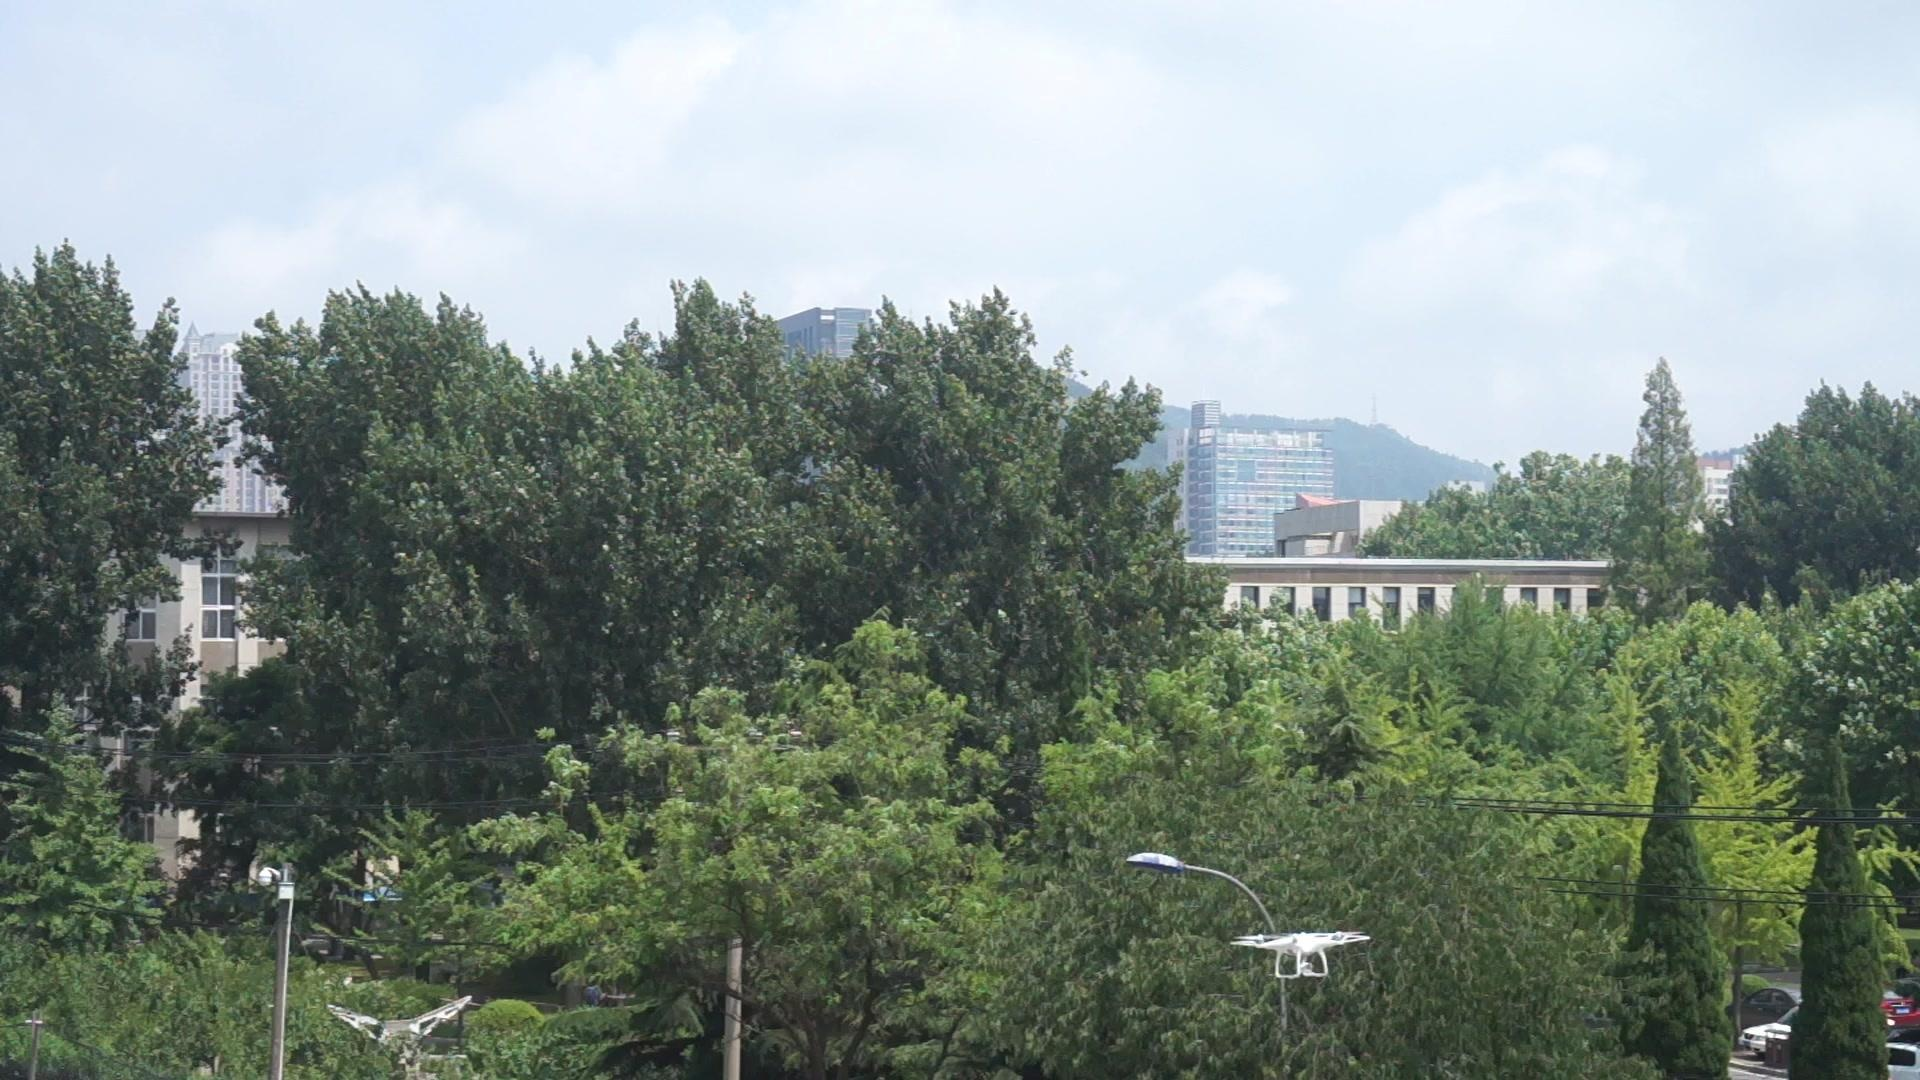UAV: (1230, 931, 1371, 978)
